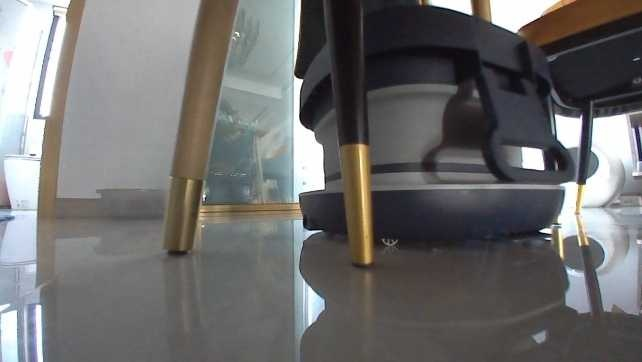toilet: (3, 151, 42, 212)
